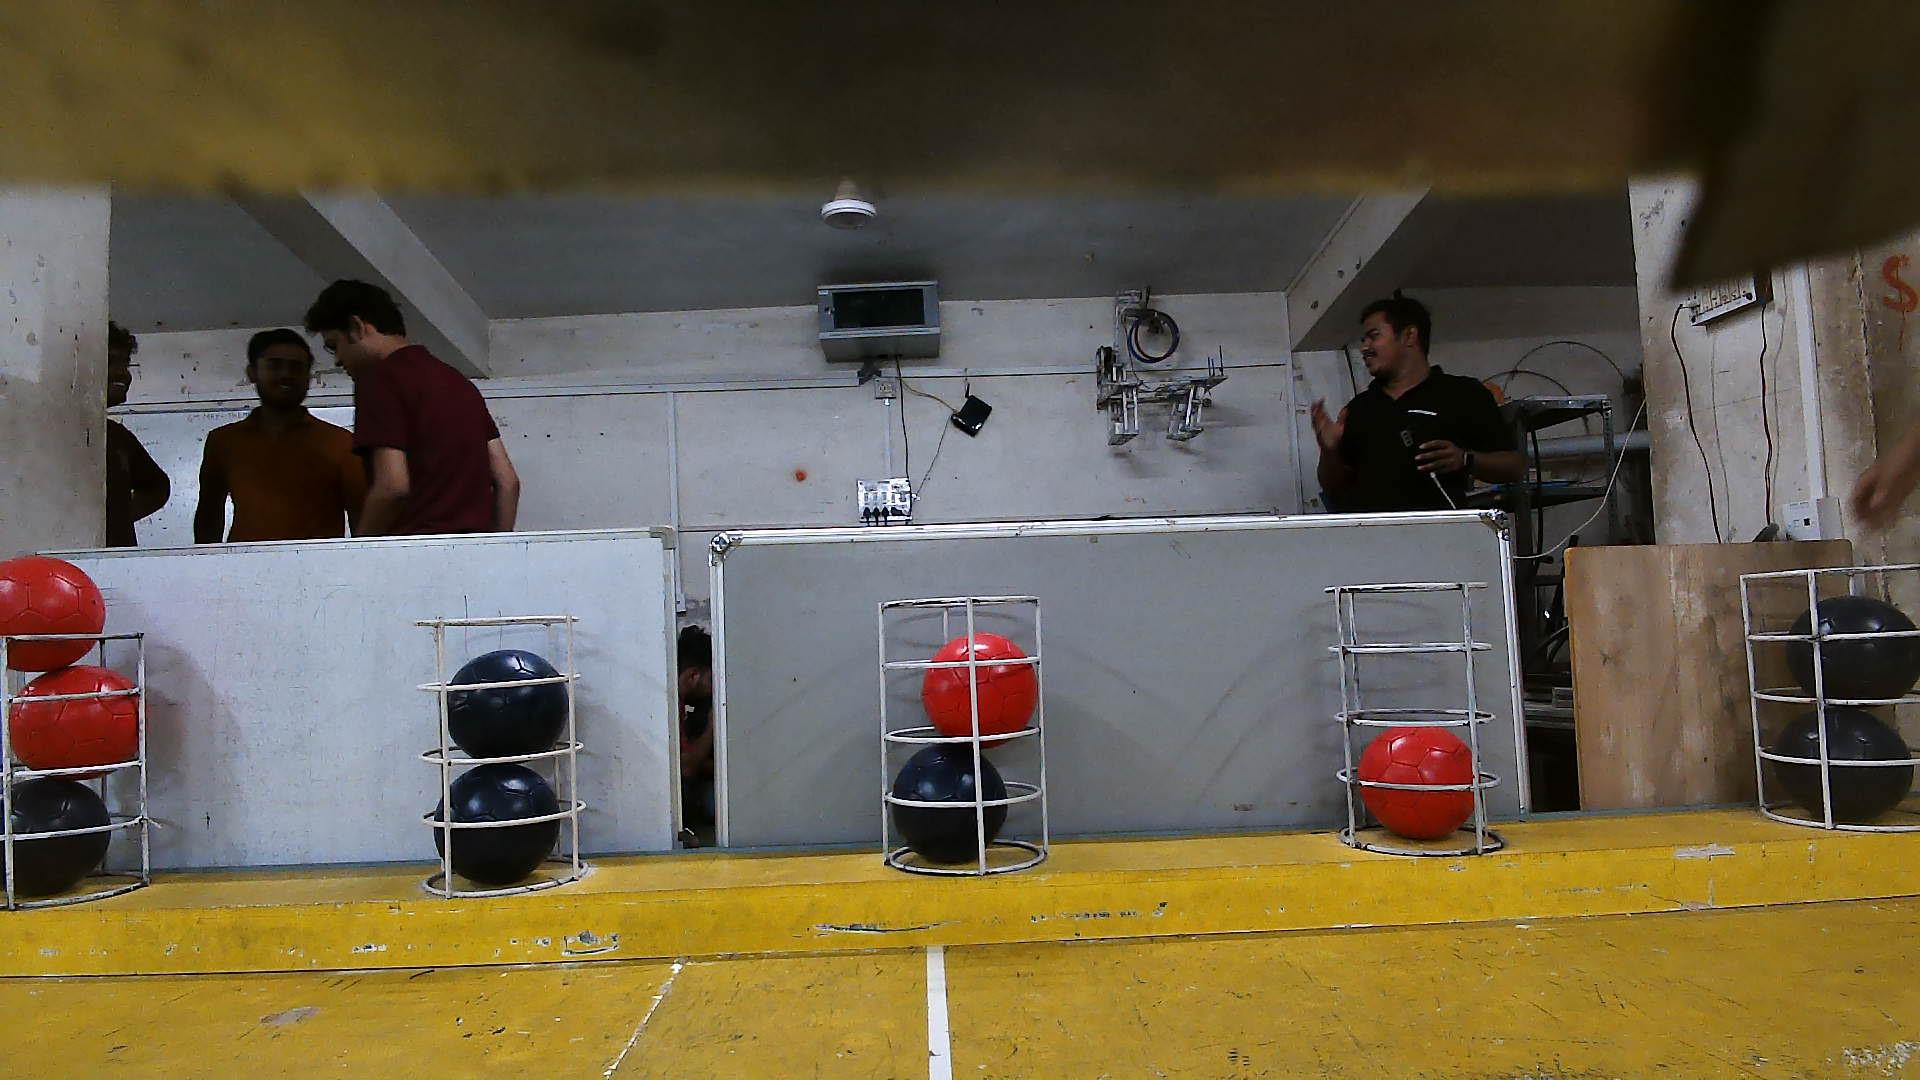dhoka: (1776, 709, 1912, 820), (1787, 599, 1920, 711), (438, 765, 555, 880), (447, 647, 570, 757), (895, 744, 1007, 858), (12, 779, 112, 897)
laale: (11, 667, 140, 779), (922, 633, 1036, 748), (1358, 728, 1473, 836), (1, 559, 104, 673)
